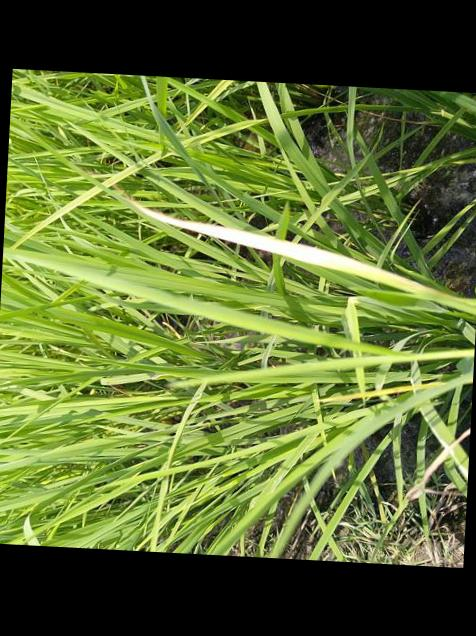Leaf Blight: (111, 184, 447, 295)
